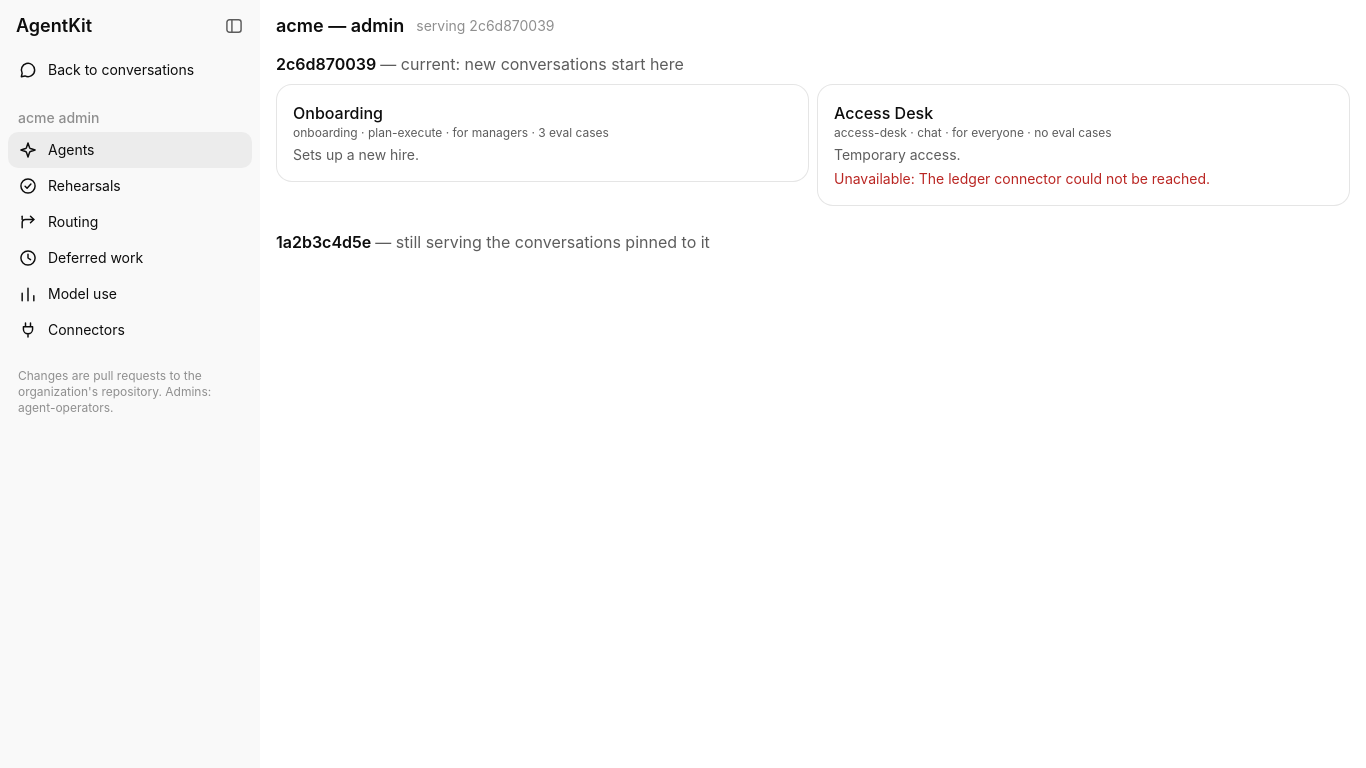
Test: The admin view › shows each loaded version with its agents, and what one of them can do
Check: the heading "acme — admin" is shown, box [276, 12, 404, 40]
Check: the text "— current: new conversations start here" is shown, box [380, 54, 684, 74]
Click the button "Onboarding" at (542, 133), box [276, 84, 809, 182]
(page scrolled)
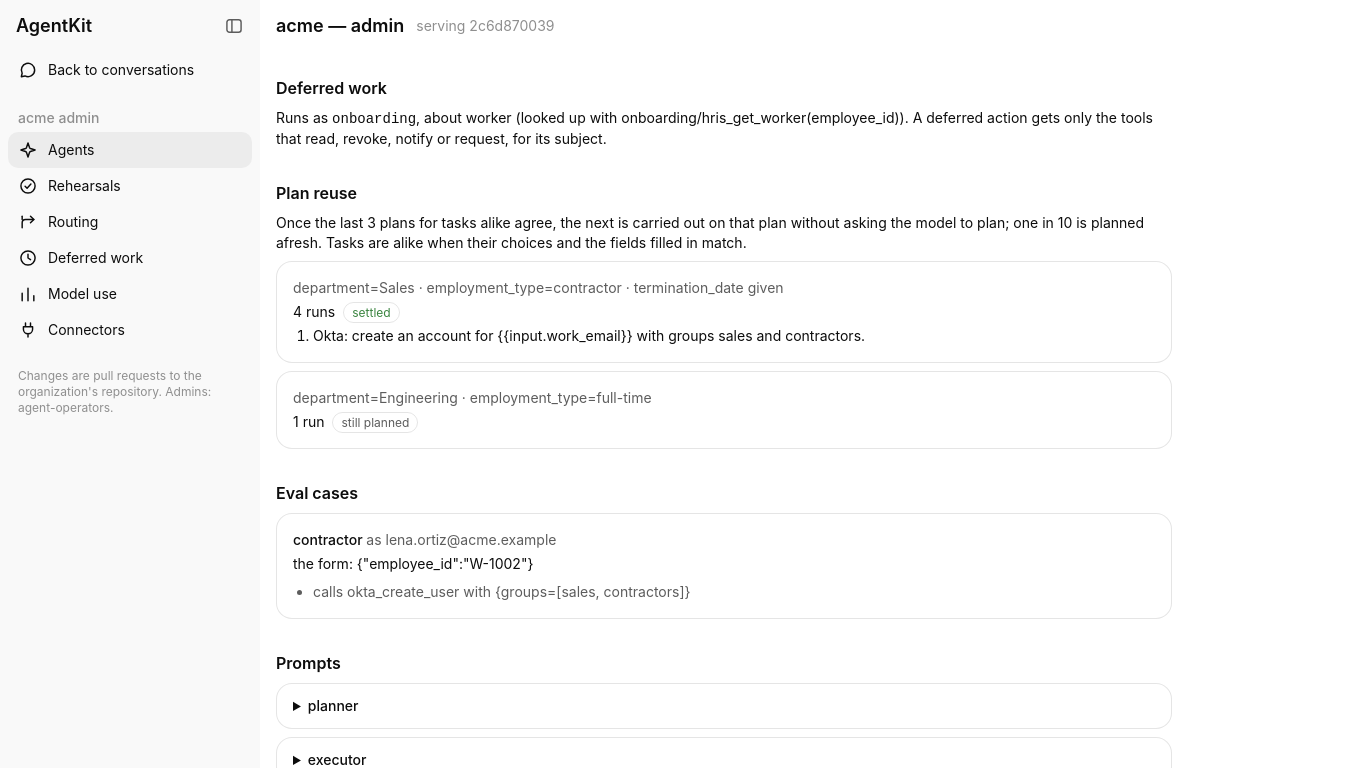
Check: the text "Runs as" shows "worker (looked up with onboarding/hris_get_worker(employee_id))", box [466, 109, 905, 126]
Check: the list item "calls okta_create_user with {groups=[sales, contractors]}" is shown, box [313, 583, 690, 600]
Check: the list item with test id "plan-kind" shows "department=Sales · employment_type=contractor · termination_date given", box [293, 279, 784, 296]
